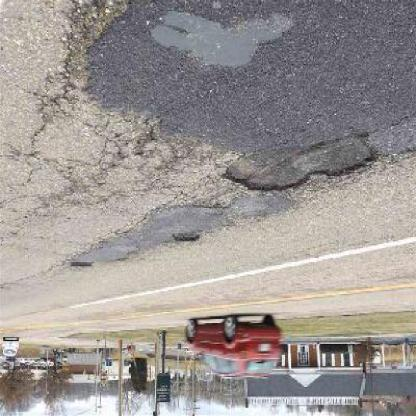pothole: (222, 131, 382, 194), (172, 231, 201, 247), (69, 262, 94, 273)
